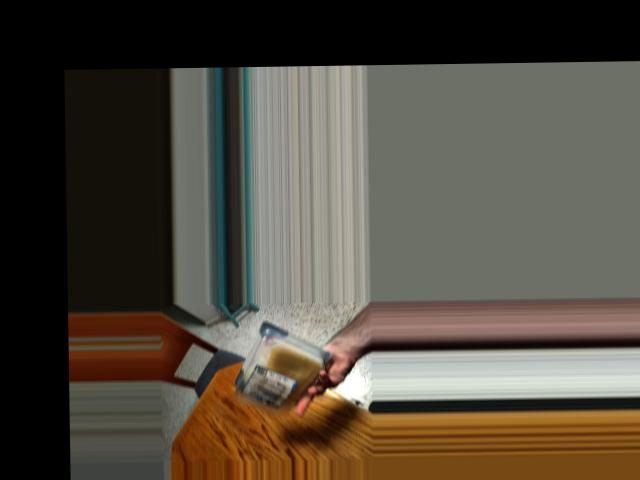cheese: (237, 337, 324, 409)
